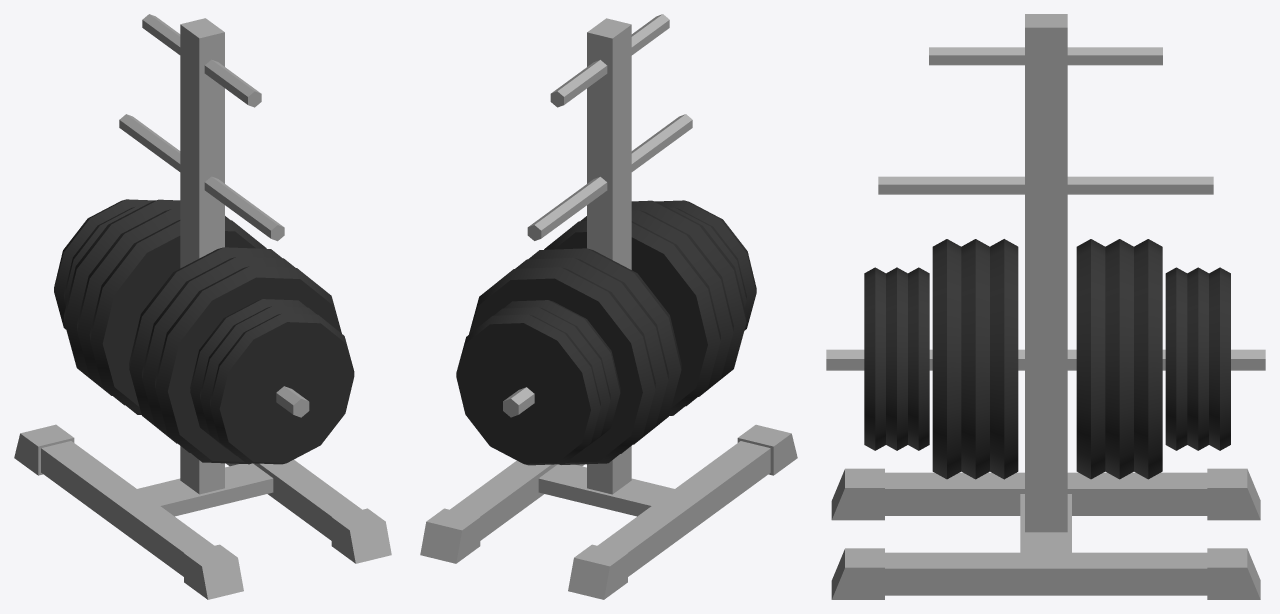
Rendered from Pesas03.fbx.
The picture shows the model from 3 angles, left to right: view 1: azimuth 30°, elevation 25°; view 2: azimuth 150°, elevation 25°; view 3: azimuth 270°, elevation 25°; orthographic projection. The views are drawn at different scales.
Parts seen in each view (by area): view 1: Pesas03; view 2: Pesas03; view 3: Pesas03.
Part boxes in pixels (x1,y1,x2,y2): Pesas03: (14,14,391,599); Pesas03: (420,14,797,599); Pesas03: (826,14,1265,599).
Bounding box in the file's own units: 37.03 × 89.5 × 67.36.
